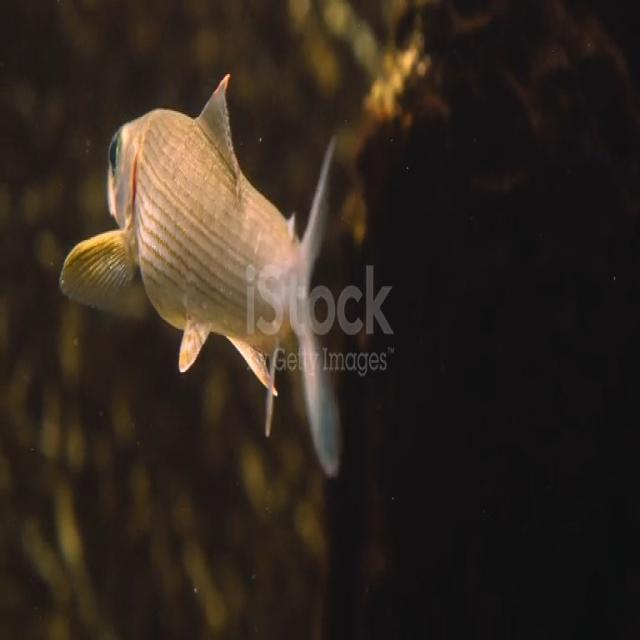fish: (57, 64, 353, 483)
